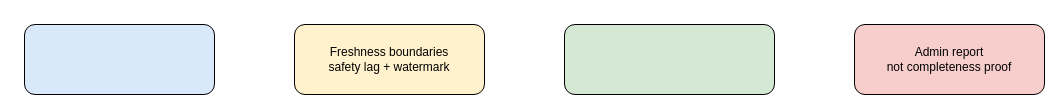
Image size: 1062x112. Some labels were removed from this diagram. Each missing label, with the centre of its shape:
Derived metrics copies / firsts / lifecycle: point (669, 59)
Input provenance received / parsed facts: point (119, 59)
